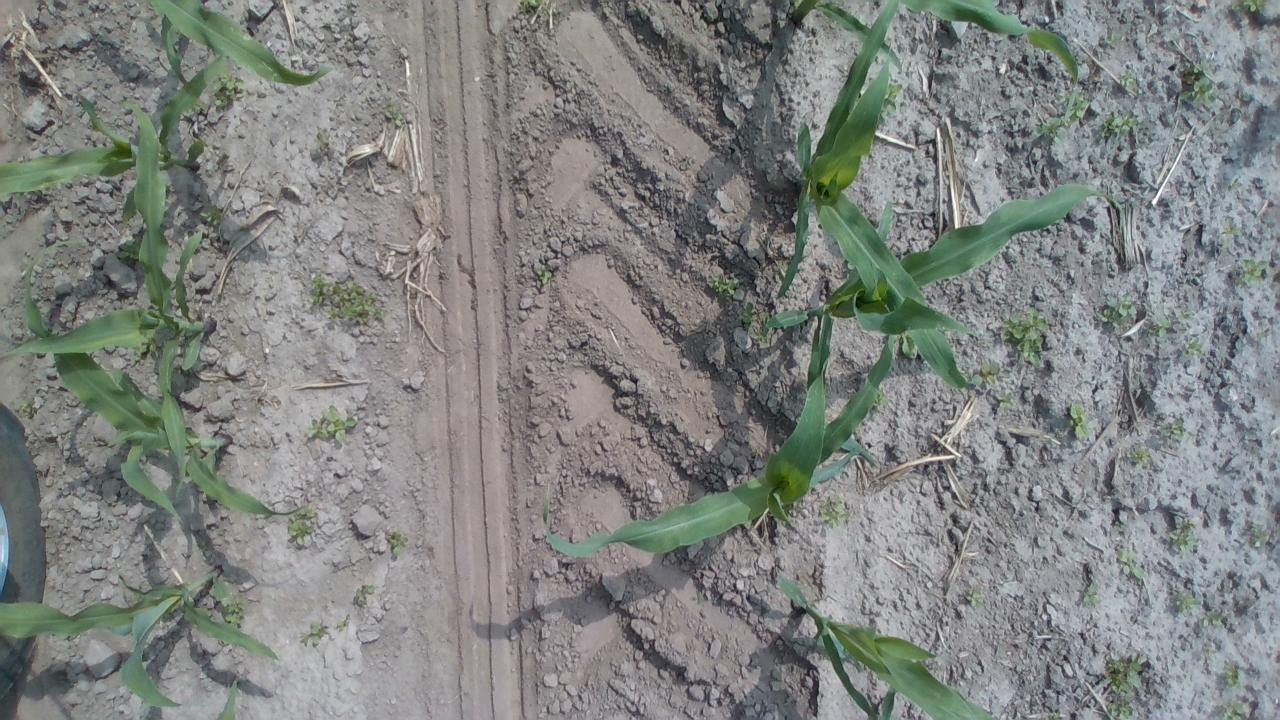Maize: (542, 288, 902, 565), (3, 103, 215, 501), (774, 0, 984, 401), (21, 238, 306, 518), (766, 183, 1128, 338), (0, 564, 279, 709), (0, 58, 225, 234), (786, 0, 1081, 126), (776, 573, 1000, 720), (145, 0, 332, 83), (214, 678, 240, 720)
Weeds: (308, 272, 386, 325), (1032, 89, 1092, 148), (1000, 306, 1050, 370), (304, 404, 356, 442), (1098, 110, 1152, 146), (1103, 652, 1143, 696), (1178, 58, 1216, 104), (1096, 292, 1140, 329), (288, 503, 316, 548), (964, 360, 1010, 386), (211, 72, 245, 106), (1168, 518, 1200, 552), (222, 584, 246, 628), (1064, 402, 1091, 441), (818, 494, 848, 528), (1117, 546, 1147, 580), (1238, 257, 1270, 286), (707, 270, 740, 298), (1156, 416, 1190, 440), (750, 311, 774, 343), (1172, 588, 1202, 612), (117, 236, 142, 264), (881, 82, 902, 115), (303, 617, 329, 643), (1104, 699, 1134, 720), (352, 582, 376, 608), (1143, 318, 1173, 338), (1230, 0, 1266, 16), (1216, 701, 1246, 720), (388, 531, 409, 558), (199, 204, 223, 226), (385, 102, 406, 127), (1224, 658, 1240, 690), (1082, 583, 1102, 608), (1127, 446, 1153, 465), (737, 302, 754, 330), (1200, 608, 1224, 627), (997, 390, 1019, 410), (1248, 526, 1268, 548), (966, 587, 985, 609), (902, 333, 918, 359), (1184, 334, 1202, 356), (518, 0, 544, 15), (188, 130, 209, 148), (131, 344, 147, 365), (16, 400, 34, 418), (1120, 72, 1136, 91), (1104, 30, 1122, 46), (536, 266, 552, 282), (313, 134, 328, 150), (1222, 221, 1238, 236), (874, 389, 888, 405), (1046, 711, 1067, 720), (1178, 310, 1193, 322), (196, 536, 208, 550), (7, 211, 18, 222), (339, 618, 349, 629), (1252, 332, 1264, 341), (786, 285, 794, 297), (1230, 181, 1240, 188)
